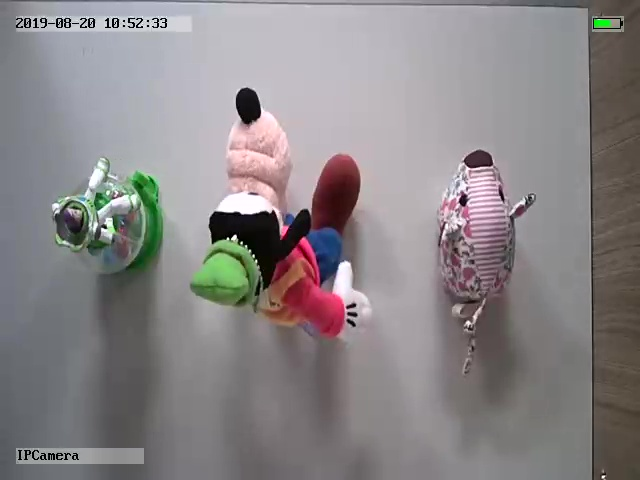buzz: (49, 156, 165, 275)
goofy: (191, 87, 372, 338)
pig: (434, 148, 535, 377)
